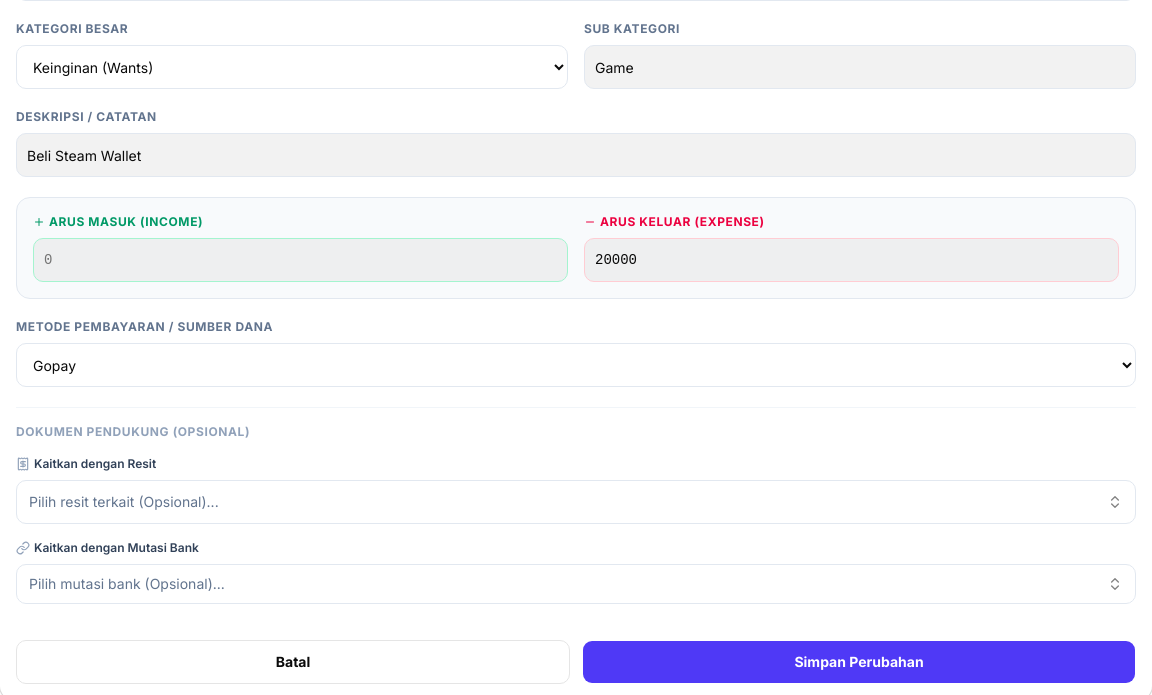
it: CashFlowForm Component › shows error message if update action returns failure
(page scrolled)
Click the button "Simpan Perubahan" at (859, 662), box [582,640,1136,684]
(page scrolled)
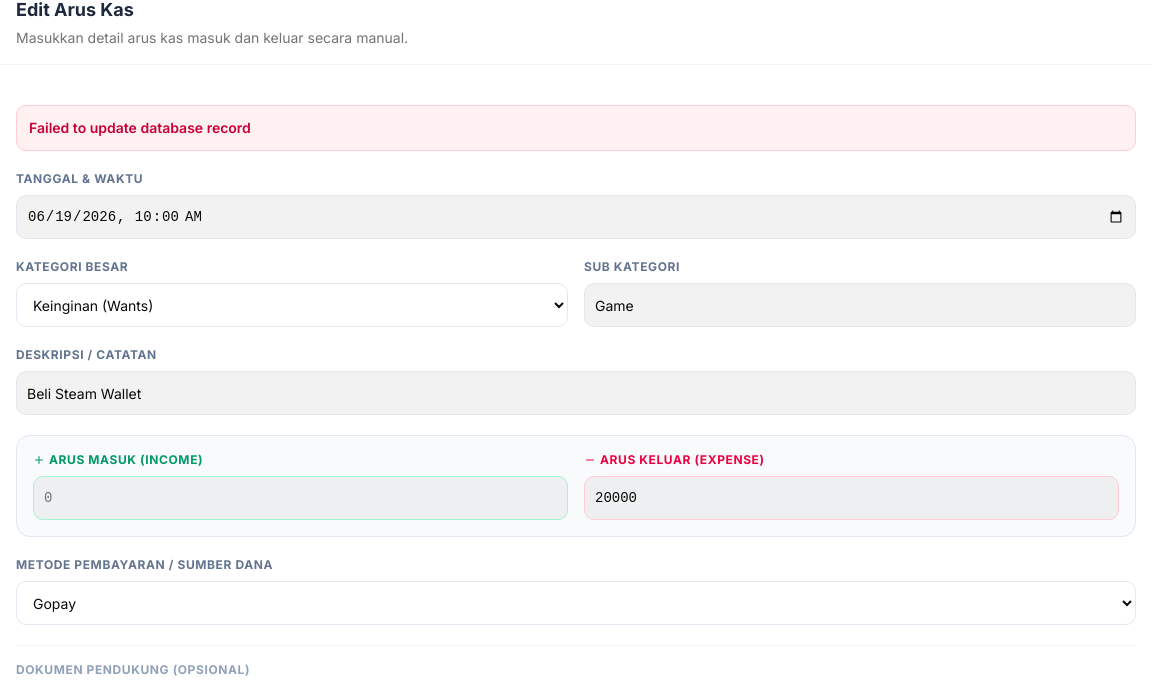
Expected: the text "Failed to update database record" is shown, [16,105,1136,151]
